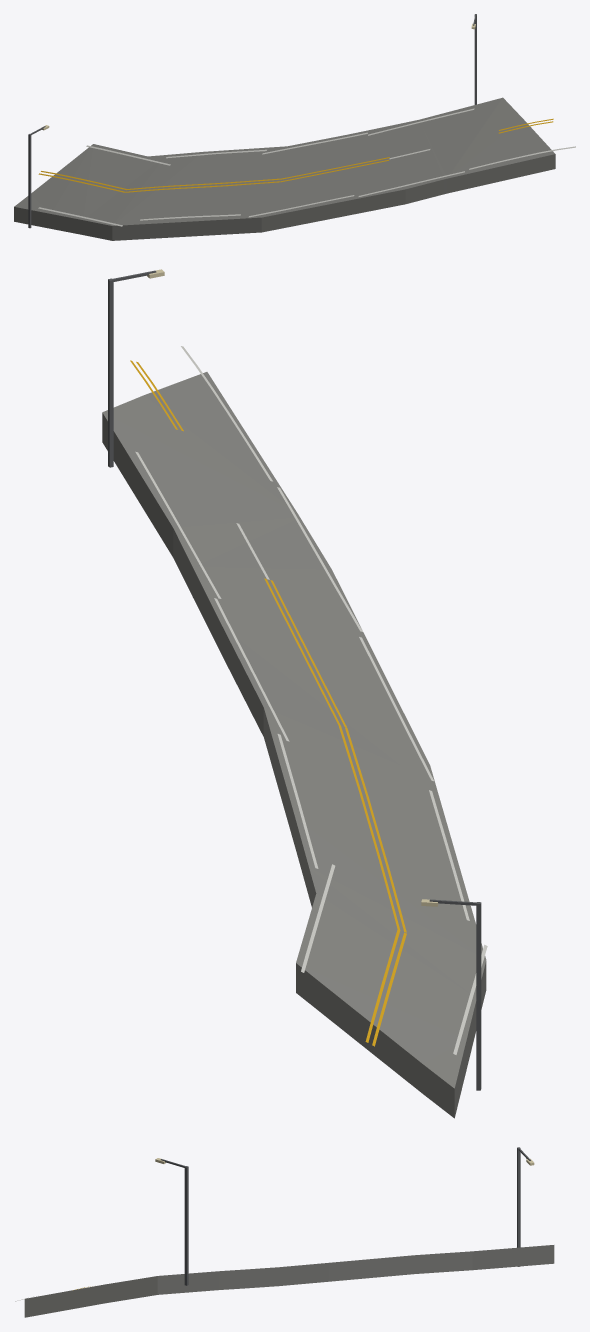
3 views of the same model, one above another, from view 1: azimuth 30°, elevation 25°; view 2: azimuth 150°, elevation 25°; view 3: azimuth 270°, elevation 25° (orthographic). The views are drawn at different scales.
Size of the model in its own units: 29.5 by 18.95 by 32.27.
